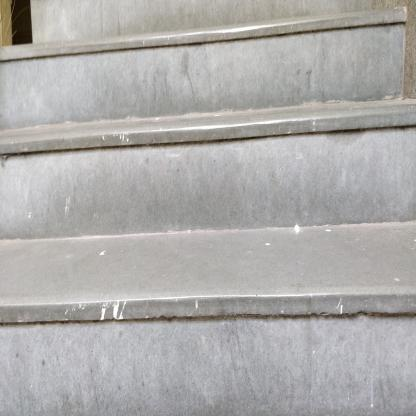stairs: (34, 2, 403, 409)
